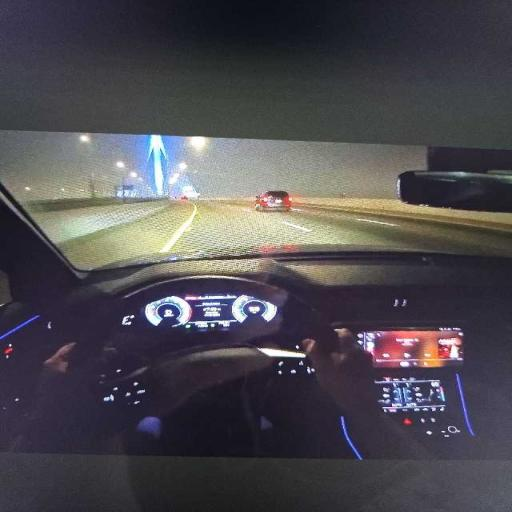car: (255, 191, 291, 211)
lane: (60, 201, 511, 268), (300, 207, 511, 256)
person: (13, 344, 122, 453)
